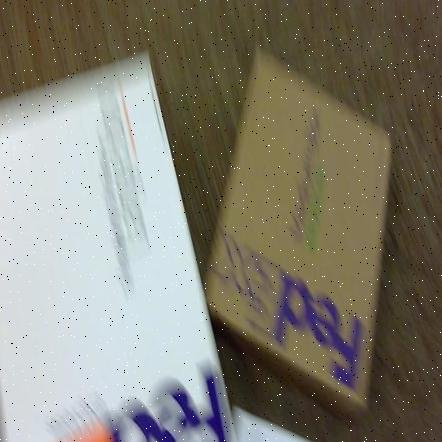Amazon: (0, 151, 239, 442), (214, 61, 384, 412)
